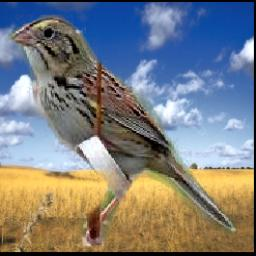Sparrow: (7, 16, 238, 247)
